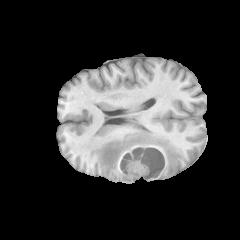glioma: (97, 128, 186, 182)
